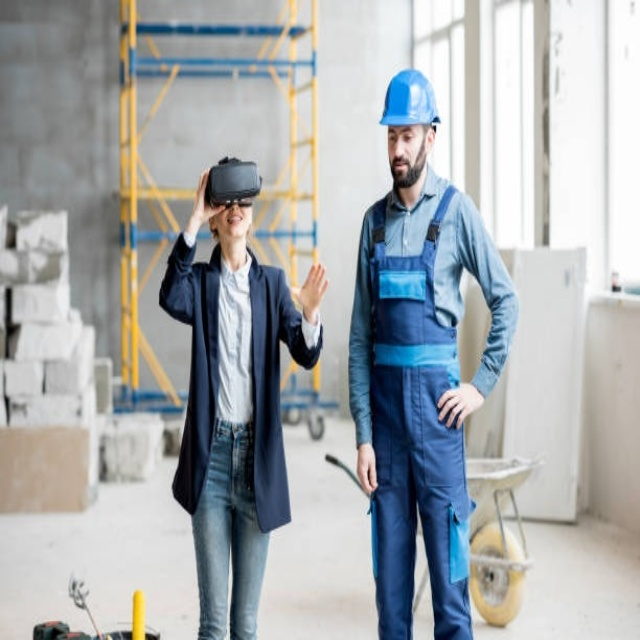Gafas: (207, 157, 262, 208)
Sin_gafas: (386, 124, 419, 149)
Sin_guantes: (438, 383, 482, 432), (297, 259, 330, 317), (356, 442, 382, 499), (188, 173, 214, 229)
Sin_mascara: (224, 210, 248, 232), (392, 157, 412, 182)
